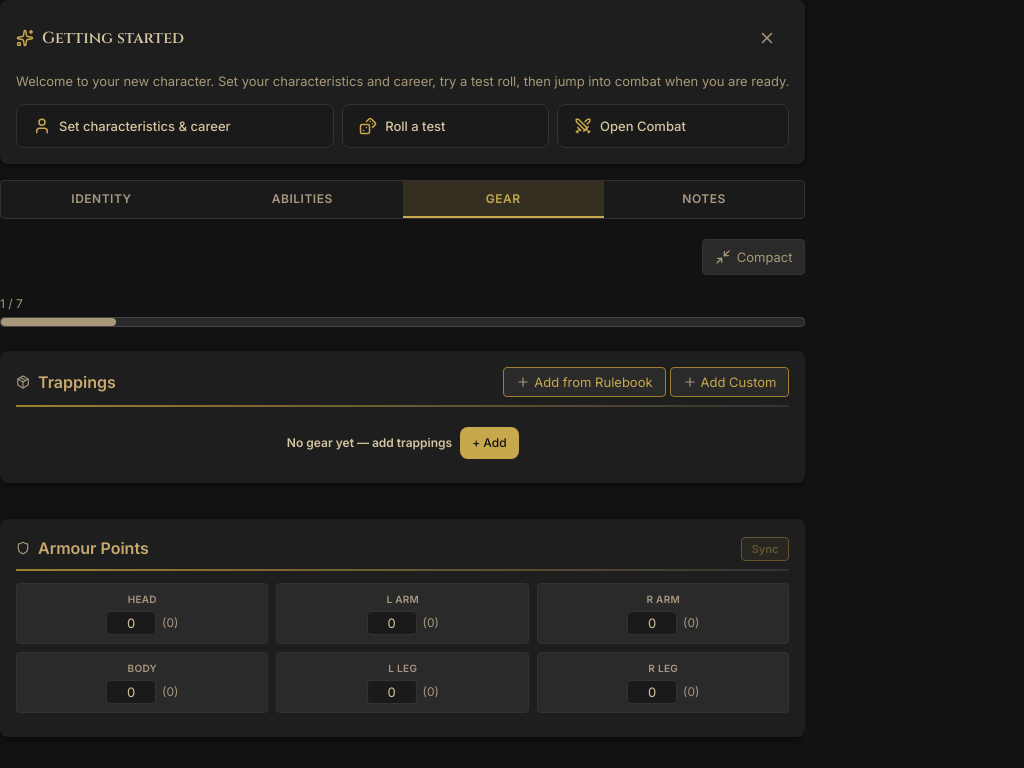
Test: CalculatedTooltips integration › Coin Weight Tooltip (Req 4.1, 4.4) › click coin weight → shows coin formula
Switch to Gear tab
Click the tab "Gear" at (503, 199), box [403,180,604,218]
(page scrolled)
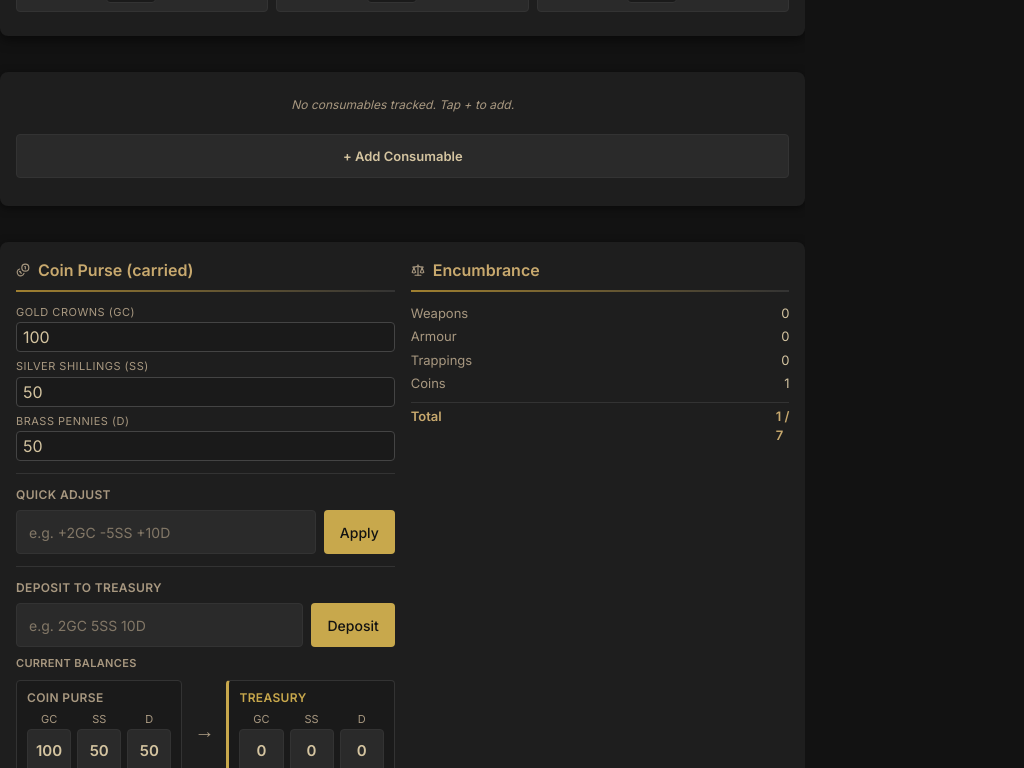
Click opens tooltip
Click the button named "Coin weight breakdown" at (787, 384), box [784,374,790,394]
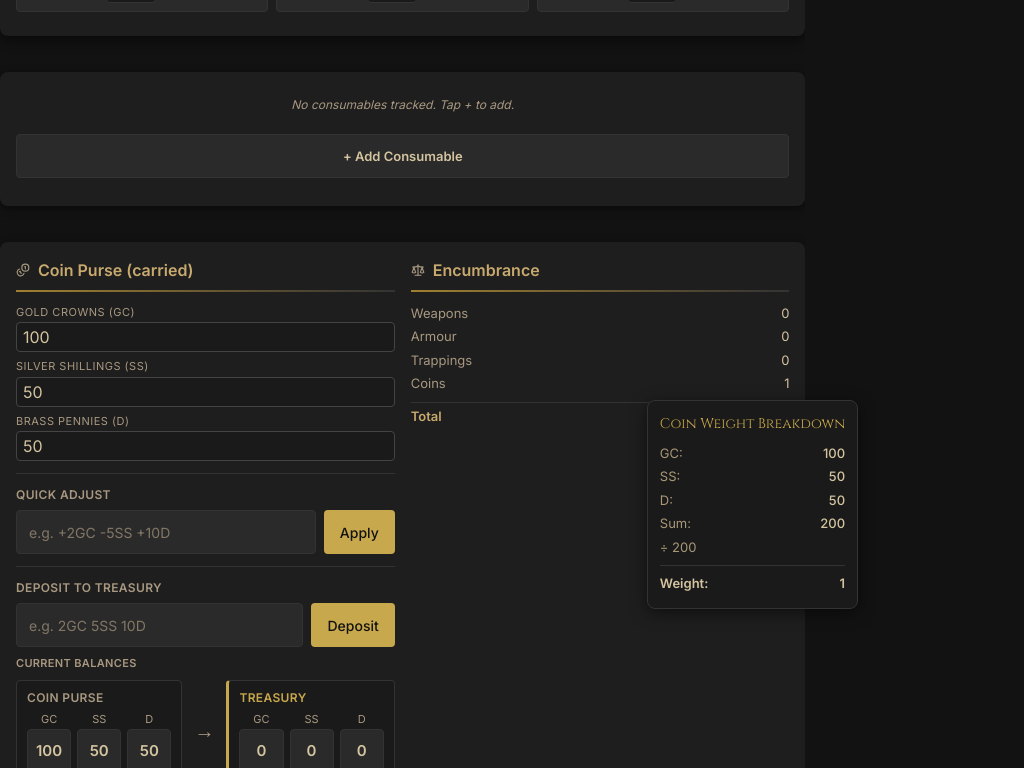
expect the tooltip with id "tooltip-breakdown-coinWeight" is shown: met, box [647,400,858,608]
expect the tooltip with id "tooltip-breakdown-coinWeight" shows "GC": met, box [660,444,683,460]
expect the tooltip with id "tooltip-breakdown-coinWeight" shows "100": met, box [823,444,845,460]
Press Escape closes tooltip
Press Escape
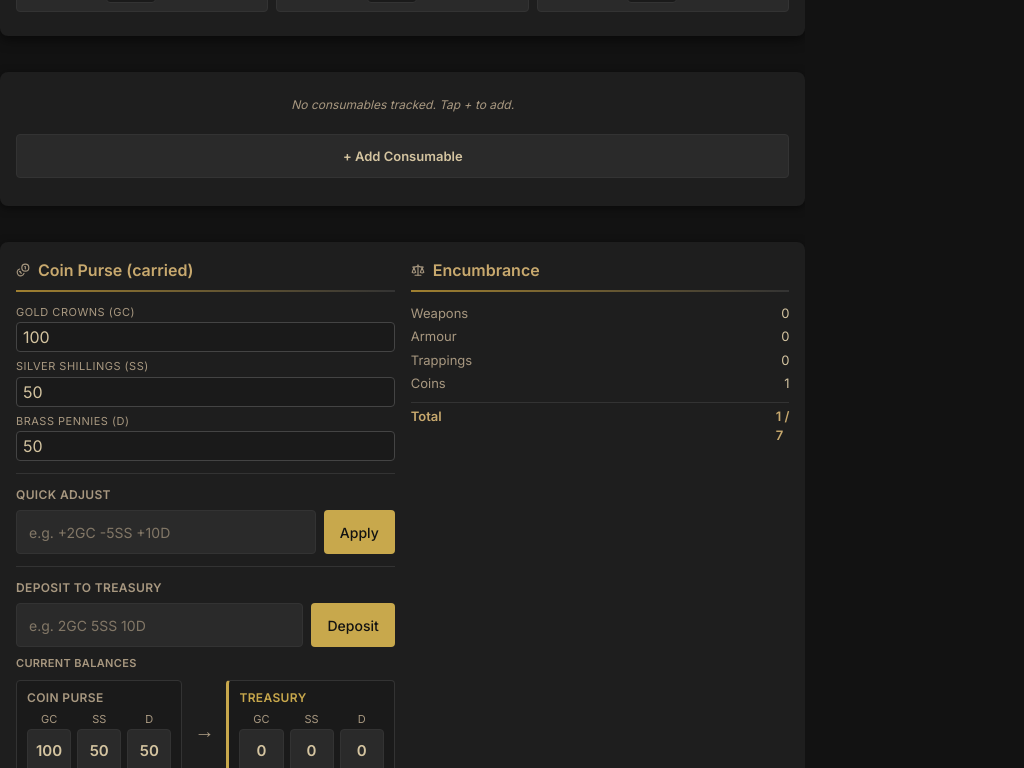
expect the tooltip with id "tooltip-breakdown-coinWeight" is gone: met
